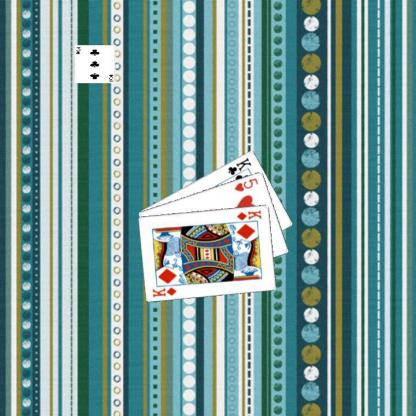5H: (232, 176, 259, 192)
KC: (226, 155, 252, 180)
KD: (234, 208, 263, 222), (150, 284, 178, 298)
